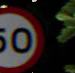Speed limit: (1, 5, 42, 66)
